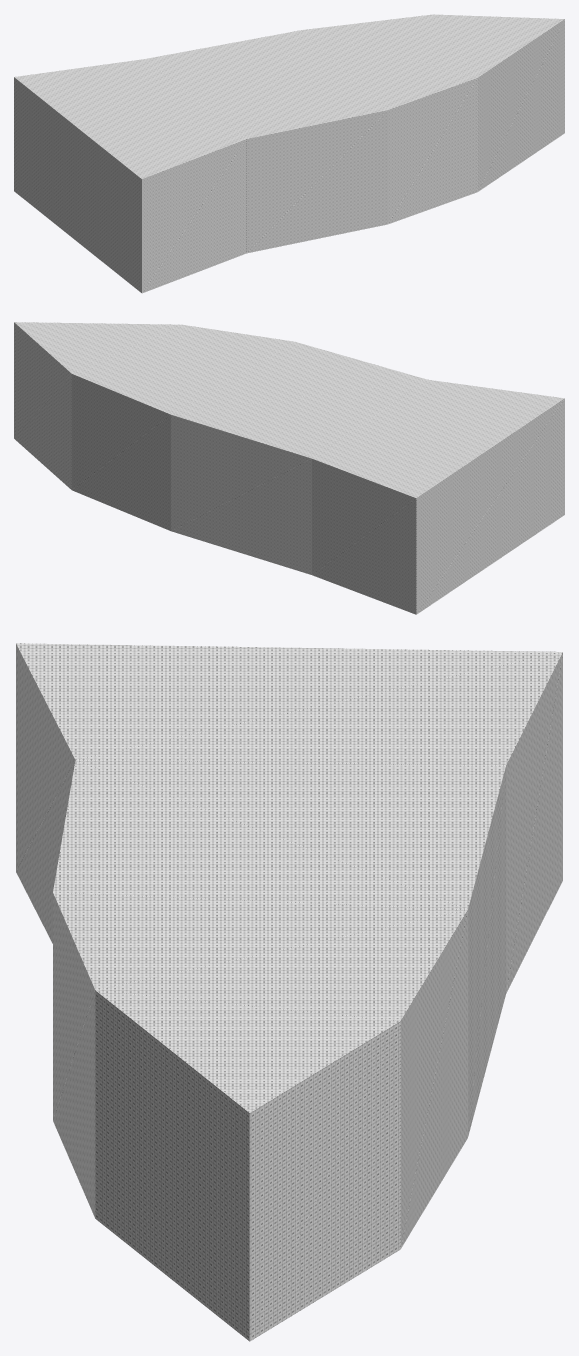
Rendered from PolyShape.obj.
3 views of the same model, one above another, from view 1: azimuth 30°, elevation 25°; view 2: azimuth 150°, elevation 25°; view 3: azimuth 270°, elevation 25° (orthographic). The views are drawn at different scales.
Parts seen in each view (by area): view 1: PolyShape; view 2: PolyShape; view 3: PolyShape.
Boxes of the visible parts, x1=… form: PolyShape: x1=14, y1=14, x2=564, y2=293; PolyShape: x1=14, y1=322, x2=564, y2=614; PolyShape: x1=16, y1=643, x2=562, y2=1341.
Bounding box in the file's own units: 142 × 32.1 × 69.7.
1 material, 1 textured.
